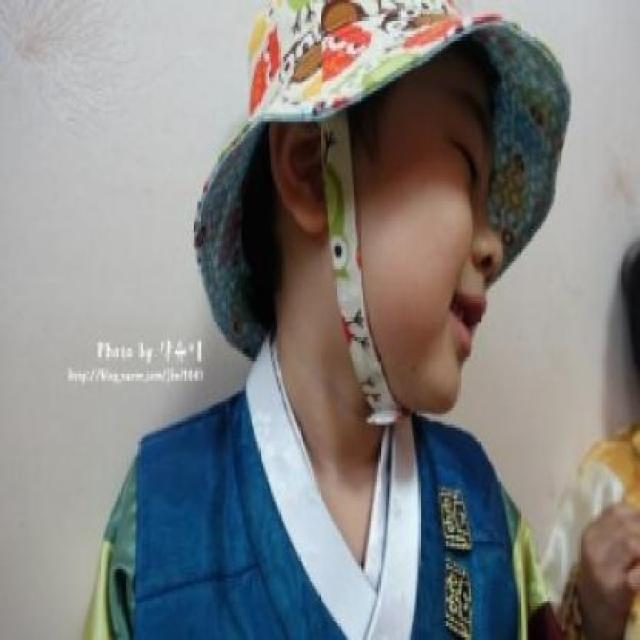hat: (194, 0, 571, 424)
